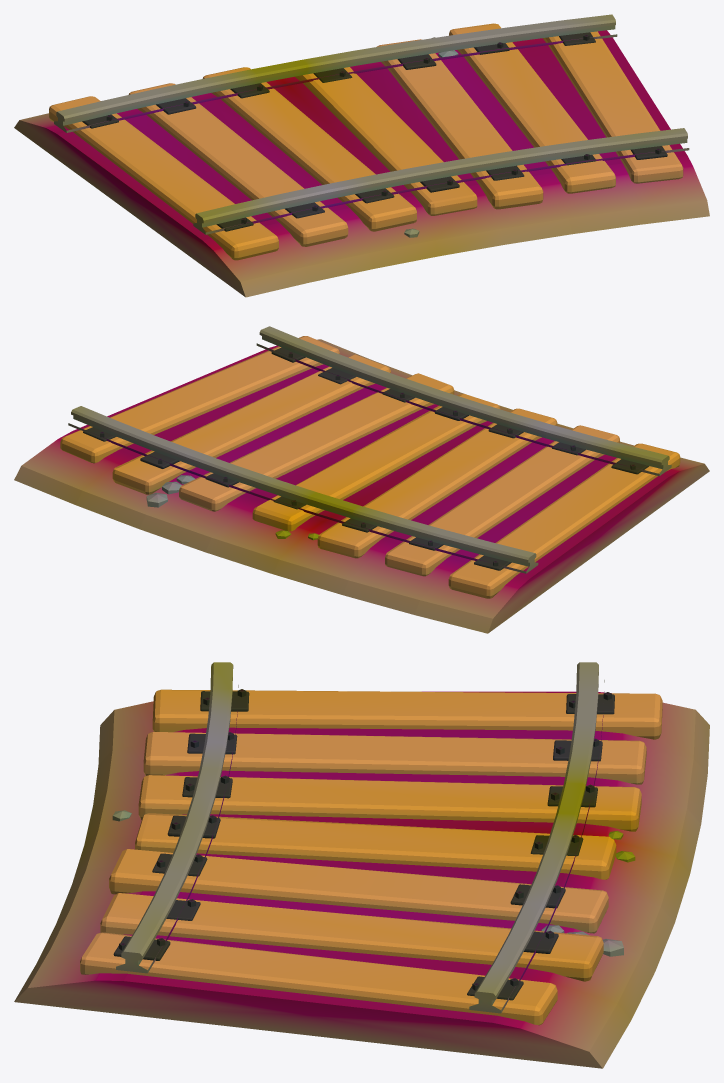
The model's file is Track_Curve_R20_15_A.glb.
3 renders of one model, top to bottom at view 1: azimuth 30°, elevation 25°; view 2: azimuth 150°, elevation 25°; view 3: azimuth 270°, elevation 25°, orthographic. The views are drawn at different scales.
Visible parts, largest first — view 1: Track_Curve_R20_15_A; view 2: Track_Curve_R20_15_A; view 3: Track_Curve_R20_15_A.
Boxes of the visible parts, <box> form: Track_Curve_R20_15_A: <box>14,14,709,297</box>; Track_Curve_R20_15_A: <box>14,326,709,633</box>; Track_Curve_R20_15_A: <box>14,662,709,1068</box>.
Bounding box in the file's own units: 5.73 × 0.49 × 4.91.
